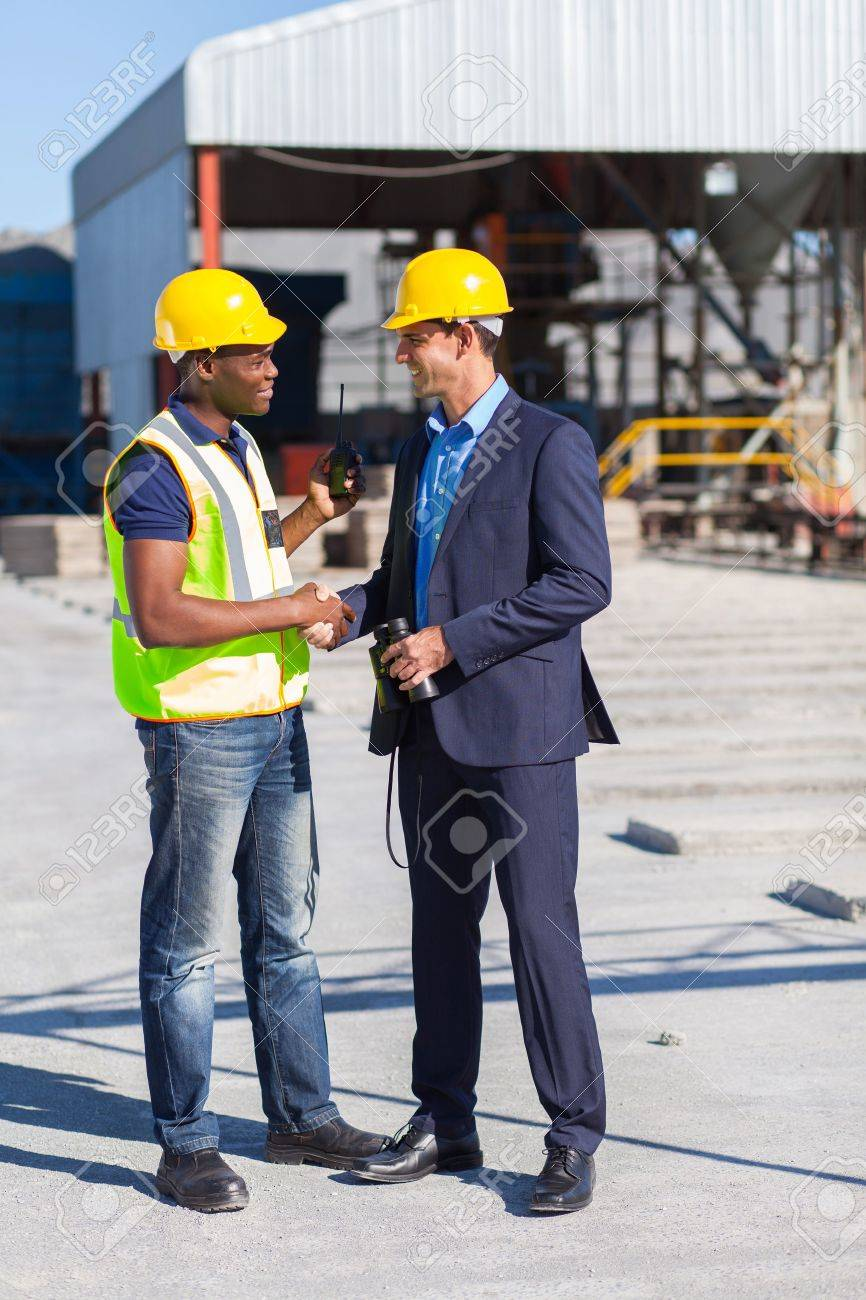hard hat: (151, 265, 278, 358), (381, 245, 515, 331)
high-vis: (102, 400, 319, 715)
